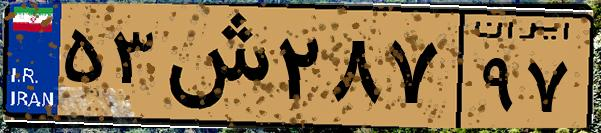2: (270, 28, 330, 110)
3: (110, 28, 158, 98)
5: (57, 26, 110, 100)
7: (385, 28, 445, 110), (525, 38, 570, 115)
8: (330, 28, 385, 110)
9: (475, 38, 525, 113)
ش: (158, 12, 270, 120)
